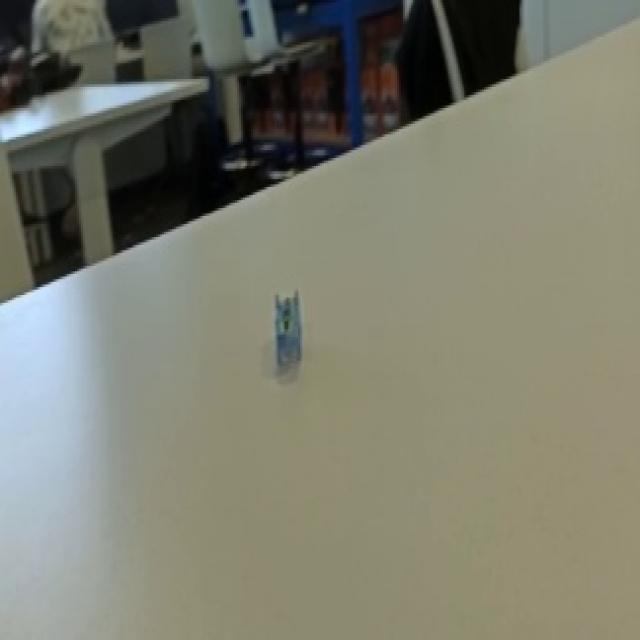3_NanoBug_Celeste: (265, 282, 323, 400)
